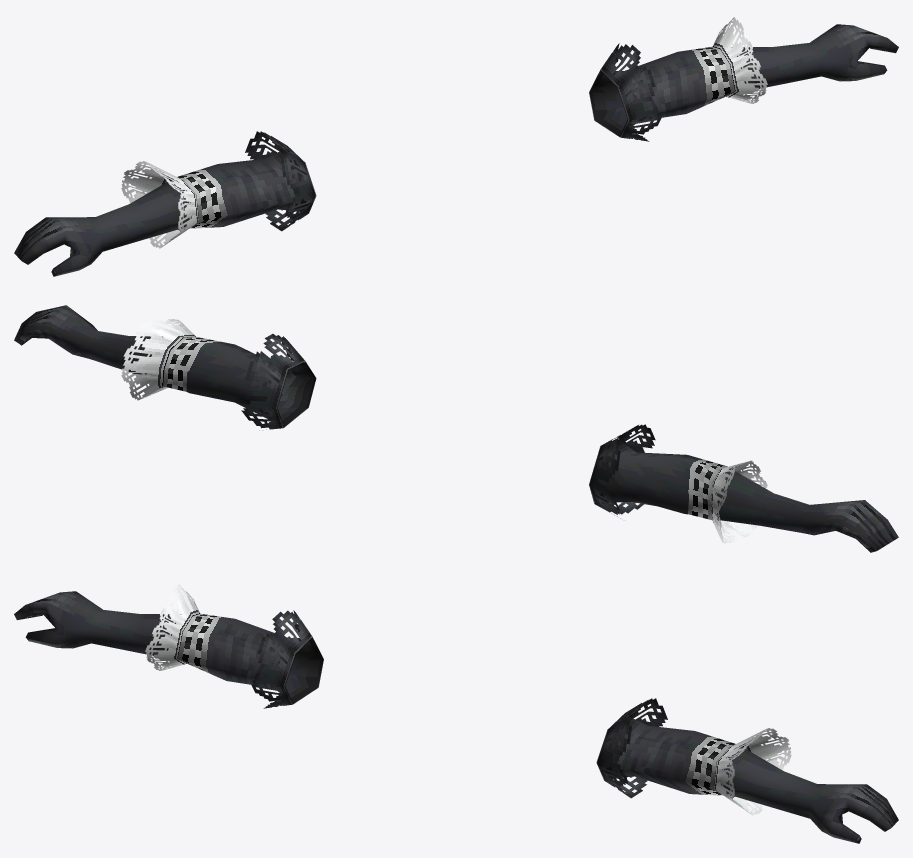
File: f_arm223.glb
The picture shows the model from 3 angles, top to bottom: view 1: azimuth 30°, elevation 25°; view 2: azimuth 150°, elevation 25°; view 3: azimuth 330°, elevation 25°; orthographic projection.
Bounding box in the file's own units: 172 × 16.7 × 19.45.
Materials: 1 (1 with a texture image).
